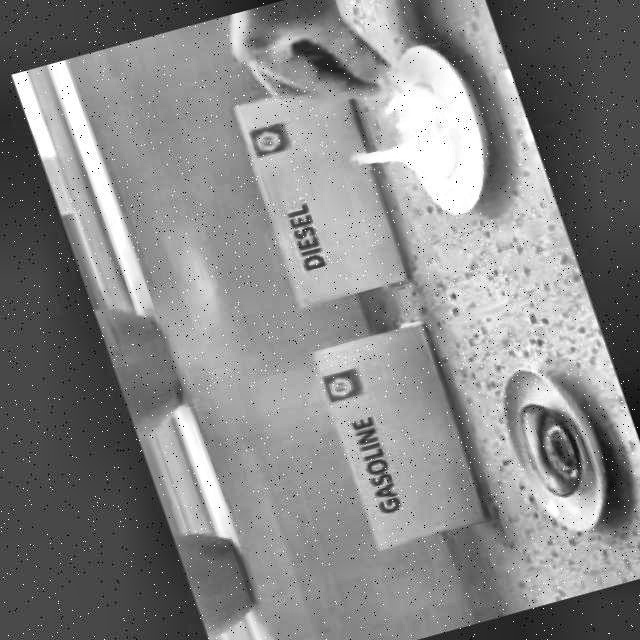Fire: (323, 80, 467, 196)
